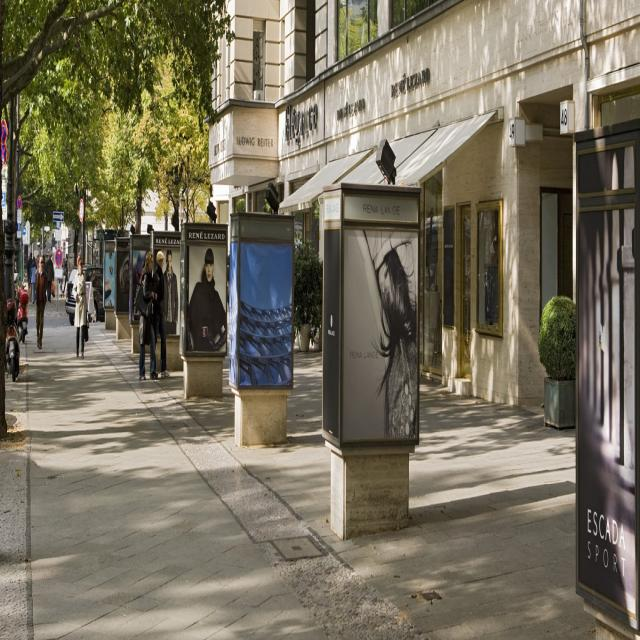body: (350, 225, 418, 442), (187, 246, 227, 354), (132, 250, 158, 382), (150, 250, 170, 380), (25, 248, 69, 295), (72, 257, 90, 360), (162, 247, 179, 335), (34, 254, 48, 350), (46, 252, 54, 304), (28, 256, 36, 302), (27, 250, 33, 300)
